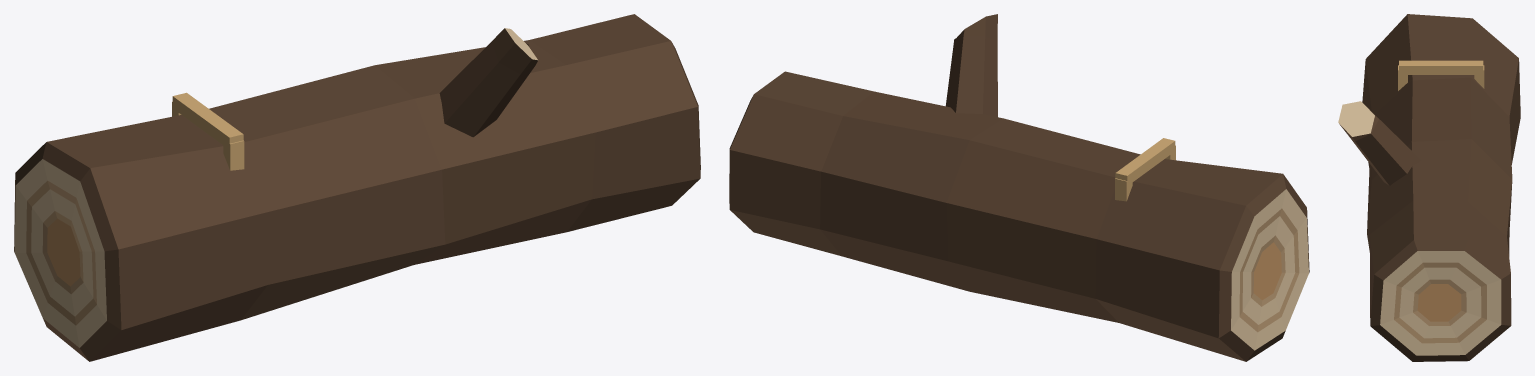
Rendered from it-log.glb.
The picture shows the model from 3 angles, left to right: view 1: azimuth 30°, elevation 25°; view 2: azimuth 150°, elevation 25°; view 3: azimuth 270°, elevation 25°; orthographic projection. The views are drawn at different scales.
Visible parts, largest first — view 1: log_bark, cut_end_root, branch_stub, log_dog; view 2: log_bark, cut_end_root, branch_stub, log_dog; view 3: log_bark, cut_end_top, branch_stub, log_dog.
Boxes of the visible parts, x1,y1,x2,y2 form: log_bark: (47,14,700,361); cut_end_root: (14,142,121,361); branch_stub: (439,28,538,137); log_dog: (172,92,244,170); log_bark: (729,71,1282,361); cut_end_root: (1218,174,1309,361); branch_stub: (945,14,997,116); log_dog: (1115,138,1175,201); log_bark: (1362,14,1520,321); cut_end_top: (1370,240,1511,361); branch_stub: (1338,101,1421,185); log_dog: (1398,60,1484,90).
Size of what is drawn, in the model's own units: 0.5118 by 0.2156 by 0.1819.
